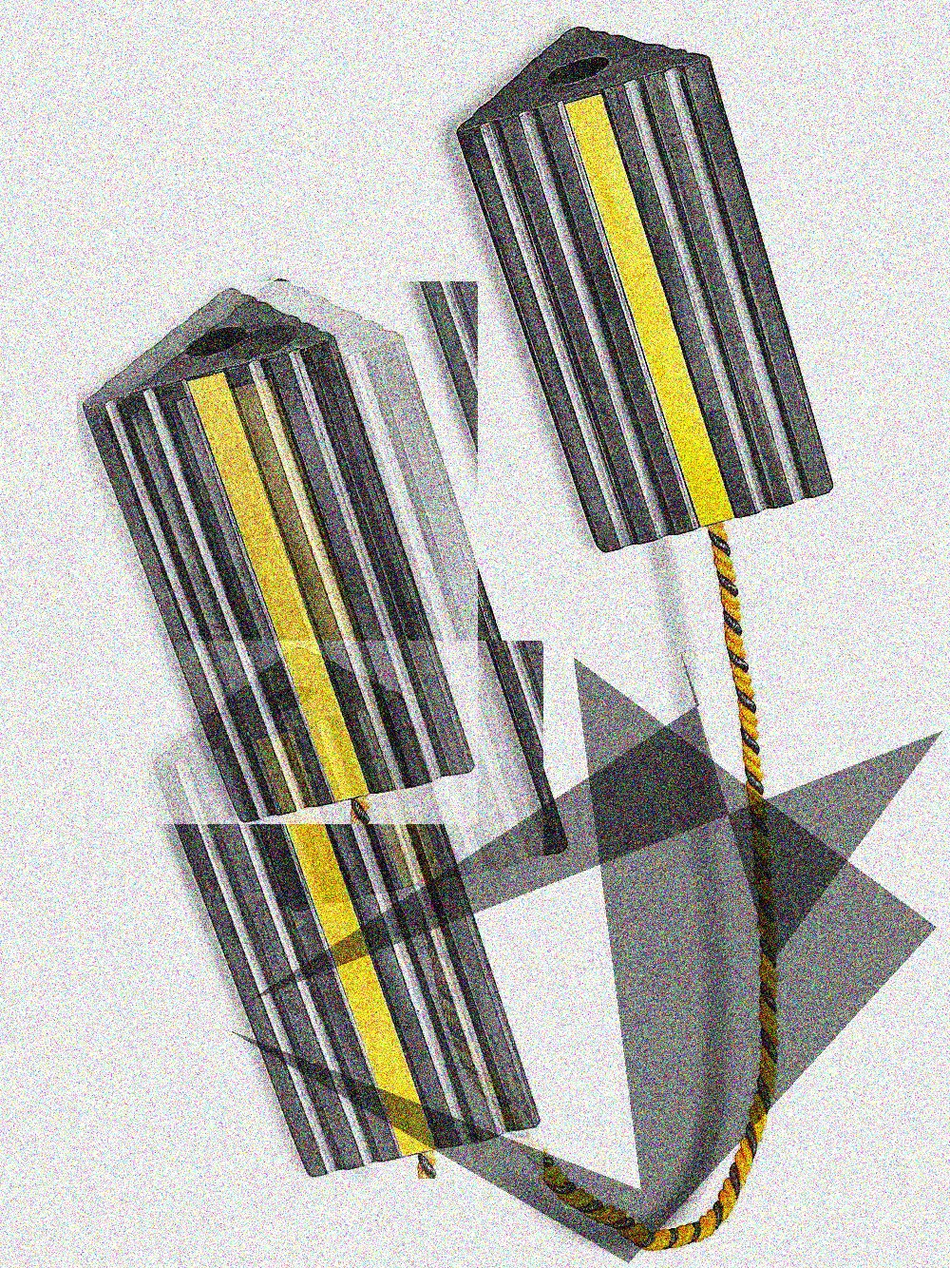chock: (98, 272, 571, 914), (77, 281, 478, 824), (147, 641, 543, 1179), (451, 24, 836, 557)
